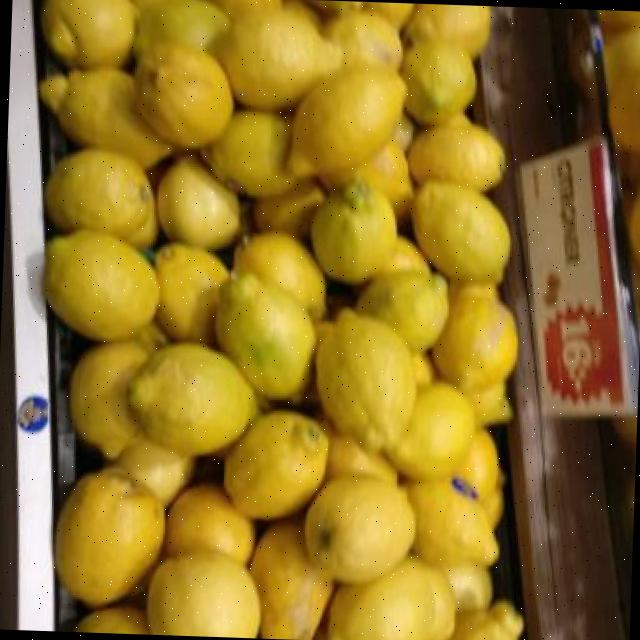lemon: (55, 467, 162, 606), (128, 343, 256, 454), (315, 310, 415, 450), (216, 3, 342, 110), (44, 229, 158, 341), (287, 69, 405, 177), (214, 273, 315, 398), (303, 476, 414, 583), (44, 148, 157, 250), (56, 69, 172, 168), (223, 411, 326, 520), (326, 556, 454, 640), (145, 551, 260, 638), (135, 44, 231, 148), (249, 520, 332, 640), (410, 181, 509, 281), (432, 283, 516, 393), (69, 341, 147, 458), (310, 180, 395, 284), (386, 383, 475, 480), (232, 232, 324, 319), (201, 112, 295, 196), (156, 155, 239, 249), (406, 480, 496, 566), (154, 242, 228, 344), (319, 140, 412, 218), (164, 483, 253, 564), (356, 272, 446, 349), (407, 121, 505, 191), (40, 0, 136, 68), (400, 43, 474, 123), (116, 439, 193, 505), (134, 0, 229, 52), (323, 11, 401, 71), (404, 3, 489, 56), (253, 180, 324, 238), (326, 433, 396, 485), (454, 431, 497, 499), (450, 600, 522, 640), (443, 563, 492, 611), (73, 607, 148, 632), (467, 380, 504, 423)
